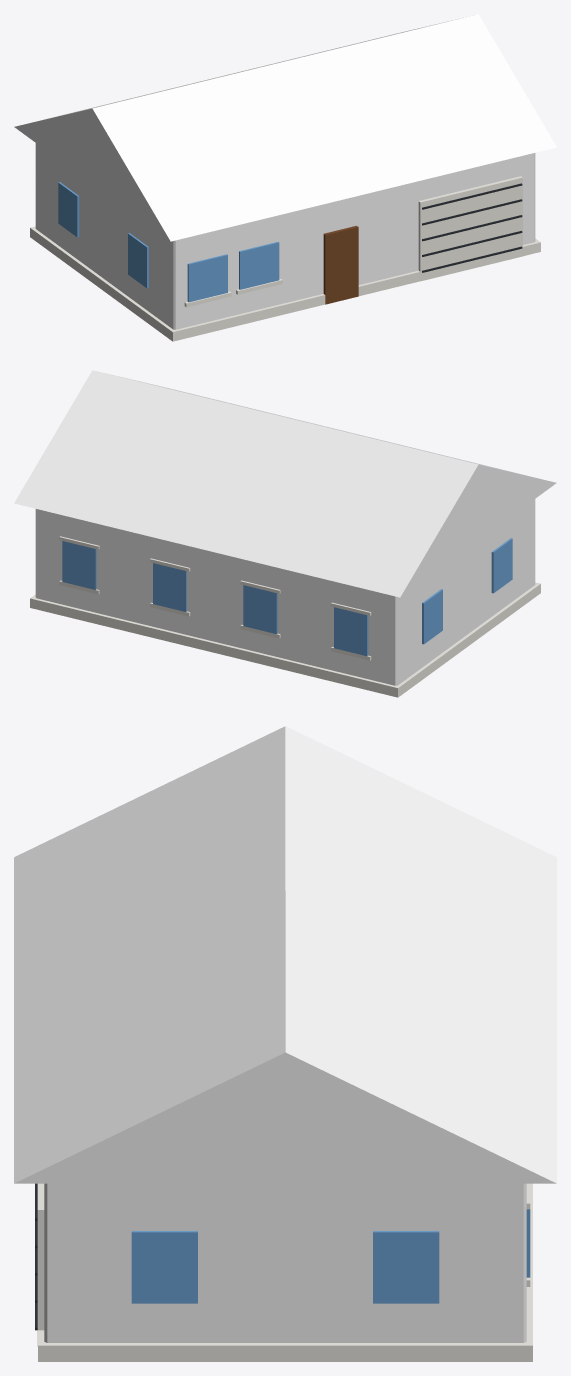
Rendered from house_b.glb.
3 views of the same model, one above another, from view 1: azimuth 30°, elevation 25°; view 2: azimuth 150°, elevation 25°; view 3: azimuth 270°, elevation 25° (orthographic). The views are drawn at different scales.
Parts seen in each view (by area): view 1: house_roof, house_walls; view 2: house_roof, house_walls; view 3: house_roof, house_walls.
Part boxes in pixels (x1,y1,x2,y2): house_roof: [14, 14, 556, 241]; house_walls: [30, 143, 540, 341]; house_roof: [14, 370, 556, 597]; house_walls: [30, 499, 540, 697]; house_roof: [14, 726, 556, 1183]; house_walls: [35, 1183, 532, 1361].
Size of the model in its own units: 12.8 by 5.8 by 9.
